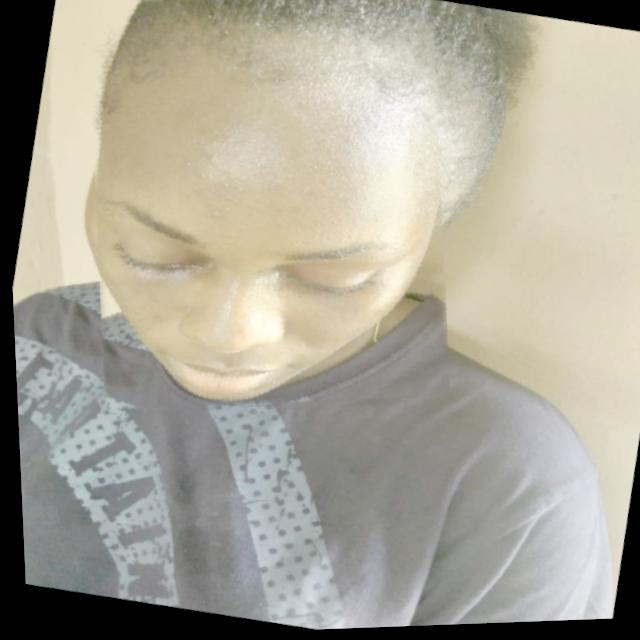sad: (30, 0, 504, 458)
